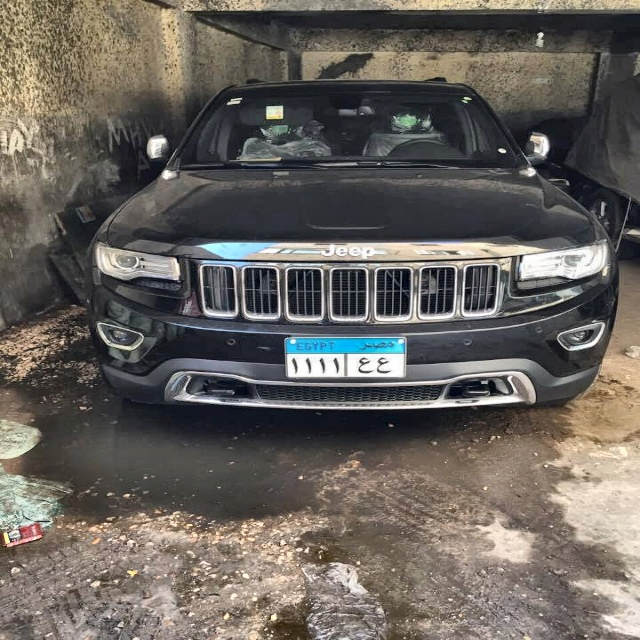License Plate: (284, 335, 408, 379)
